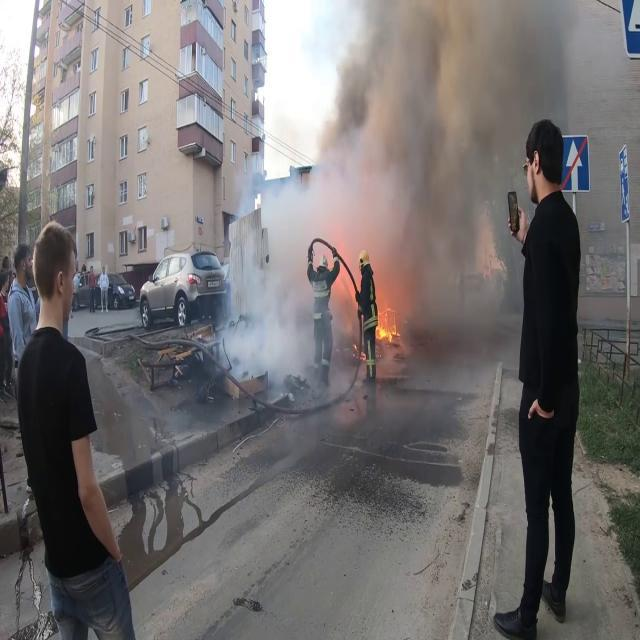Fire: (376, 304, 398, 348)
Smoke: (300, 0, 544, 318), (214, 142, 320, 394)
